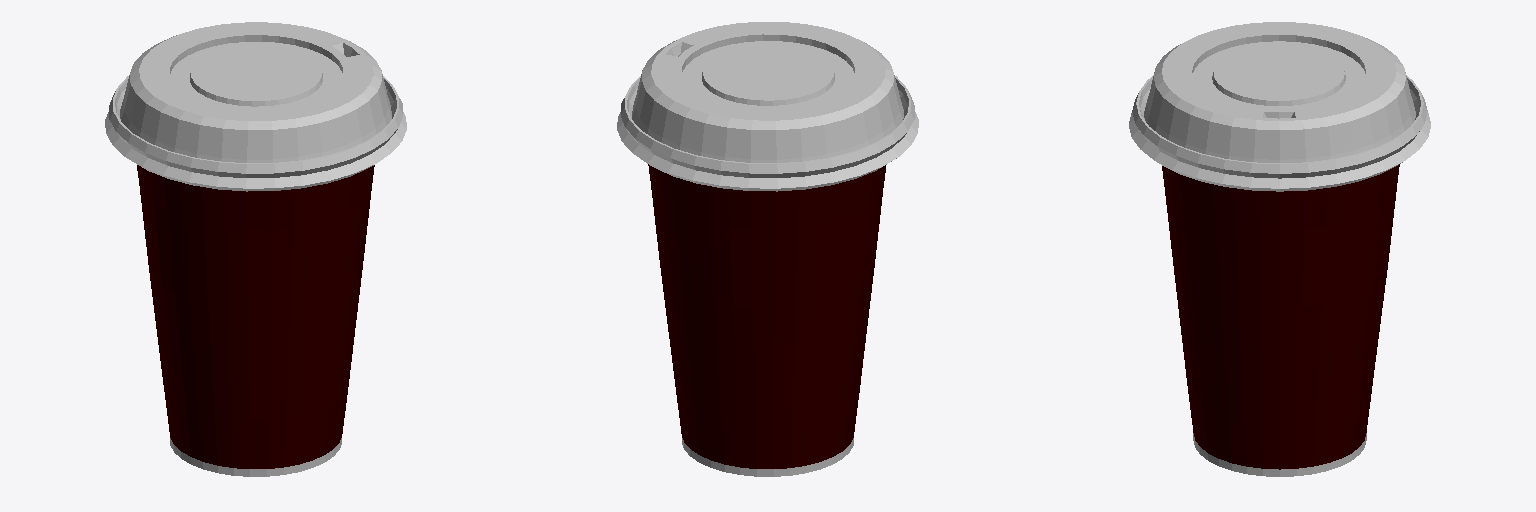
Rendered from costa_cup.obj.
The picture shows the model from 3 angles: view 1: azimuth 30°, elevation 25°; view 2: azimuth 150°, elevation 25°; view 3: azimuth 270°, elevation 25°; orthographic projection.
Parts seen in each view (by area): view 1: main_body, cup; view 2: main_body, cup; view 3: main_body, cup.
Boxes of the visible parts, x1=… form: main_body: x1=137, y1=165, x2=374, y2=476; cup: x1=105, y1=22, x2=406, y2=191; main_body: x1=648, y1=164, x2=885, y2=476; cup: x1=617, y1=22, x2=918, y2=191; main_body: x1=1162, y1=164, x2=1399, y2=476; cup: x1=1129, y1=22, x2=1430, y2=191.
Bounding box in the file's own units: 4.61 × 6.2 × 4.61.